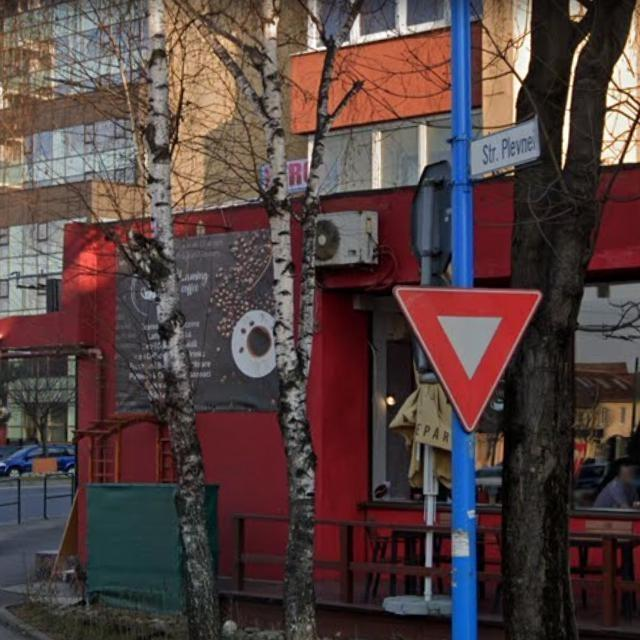prio_give_way: (382, 282, 542, 436)
